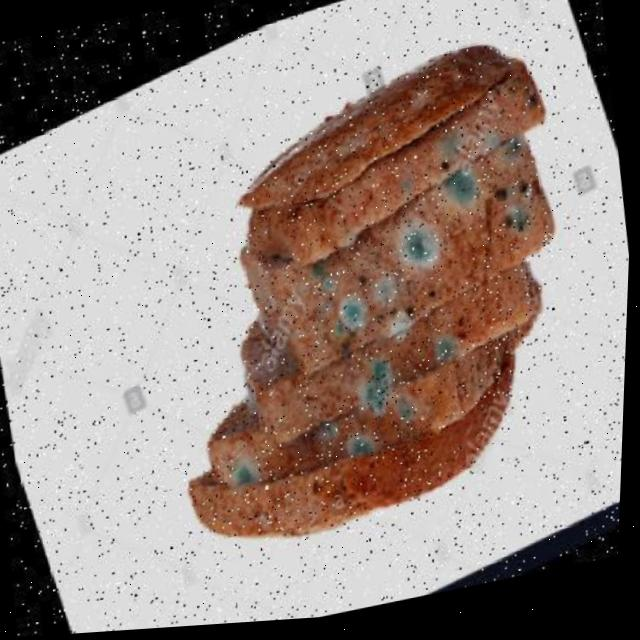Wet: (119, 11, 616, 608)
